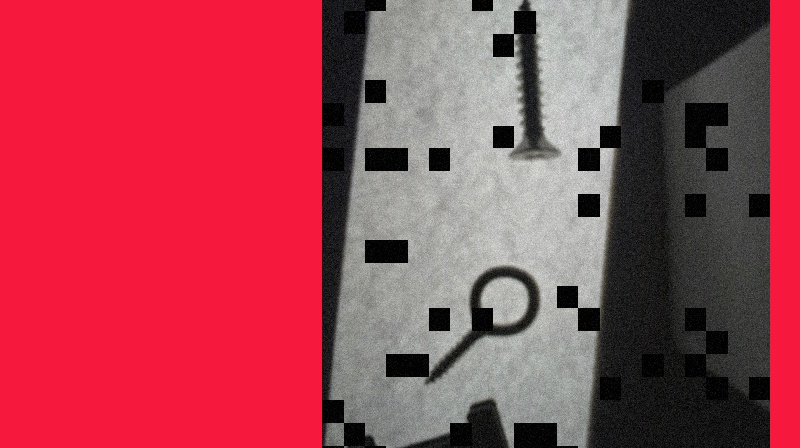O001: (423, 260, 543, 389)
O002: (338, 398, 518, 447)
S001: (500, 0, 560, 165)
